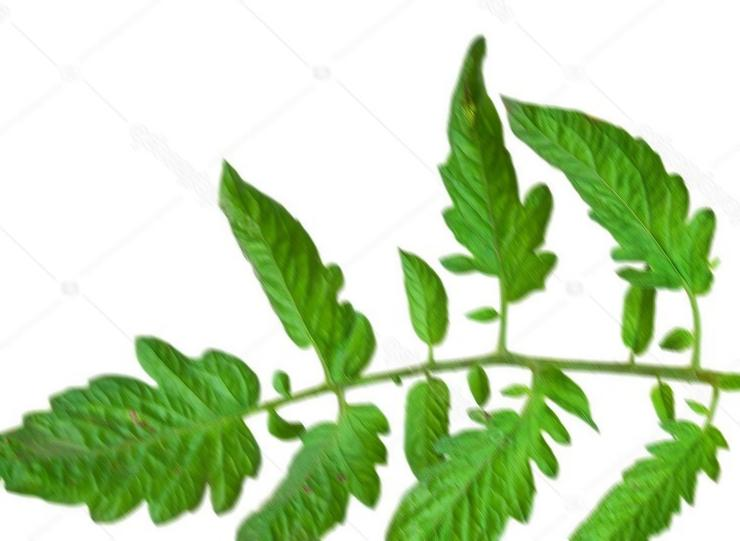Tomato leaf: (0, 331, 271, 532), (507, 93, 715, 314), (362, 370, 589, 541), (201, 161, 357, 374), (529, 394, 729, 541), (445, 24, 545, 313), (224, 387, 399, 541)
